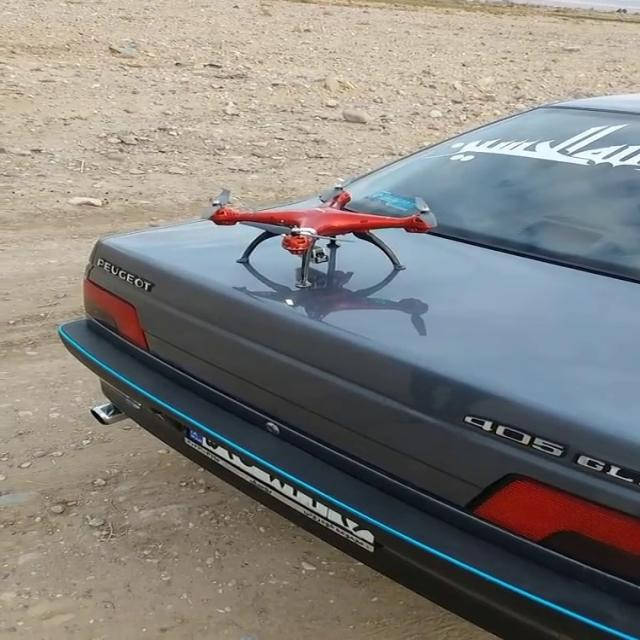drone: (200, 181, 438, 288)
